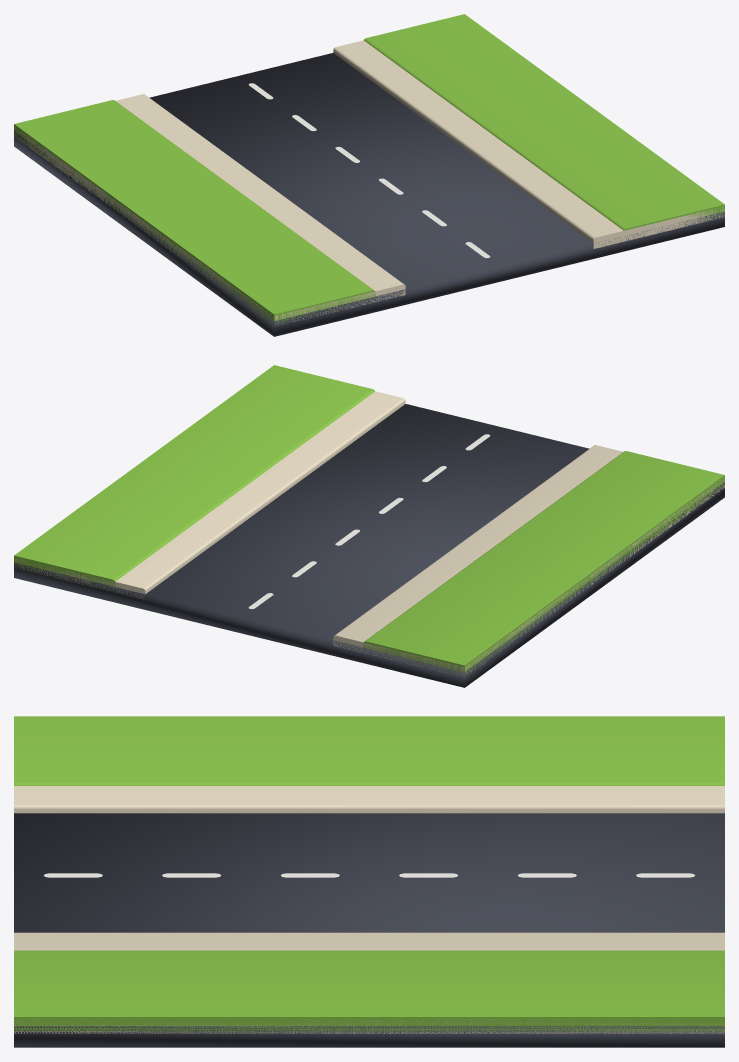
The model's file is Road_Straight.fbx.
3 views of the same model, one above another, from view 1: azimuth 30°, elevation 25°; view 2: azimuth 150°, elevation 25°; view 3: azimuth 270°, elevation 25° (orthographic). The views are drawn at different scales.
Visible parts, largest first — view 1: Tile_Road_Straight_Asphalt, Tile_Road_Straight_Grass, Tile_Road_Straight_Sidewalk, Tile_Road_Straight_LineWhite; view 2: Tile_Road_Straight_Asphalt, Tile_Road_Straight_Grass, Tile_Road_Straight_Sidewalk, Tile_Road_Straight_LineWhite; view 3: Tile_Road_Straight_Grass, Tile_Road_Straight_Asphalt, Tile_Road_Straight_Sidewalk, Tile_Road_Straight_LineWhite.
Boxes of the visible parts, x1,y1,x2,y2 form: Tile_Road_Straight_Asphalt: (14,53,724,336); Tile_Road_Straight_Grass: (14,14,724,324); Tile_Road_Straight_Sidewalk: (14,40,724,325); Tile_Road_Straight_LineWhite: (248,83,490,258); Tile_Road_Straight_Asphalt: (14,404,724,687); Tile_Road_Straight_Grass: (14,365,724,675); Tile_Road_Straight_Sidewalk: (15,391,724,676); Tile_Road_Straight_LineWhite: (248,434,490,609); Tile_Road_Straight_Grass: (14,716,724,1031); Tile_Road_Straight_Asphalt: (14,813,724,1047); Tile_Road_Straight_Sidewalk: (14,786,724,1033); Tile_Road_Straight_LineWhite: (44,873,694,877).
Bounding box in the file's own units: 24 × 1.14 × 24.
